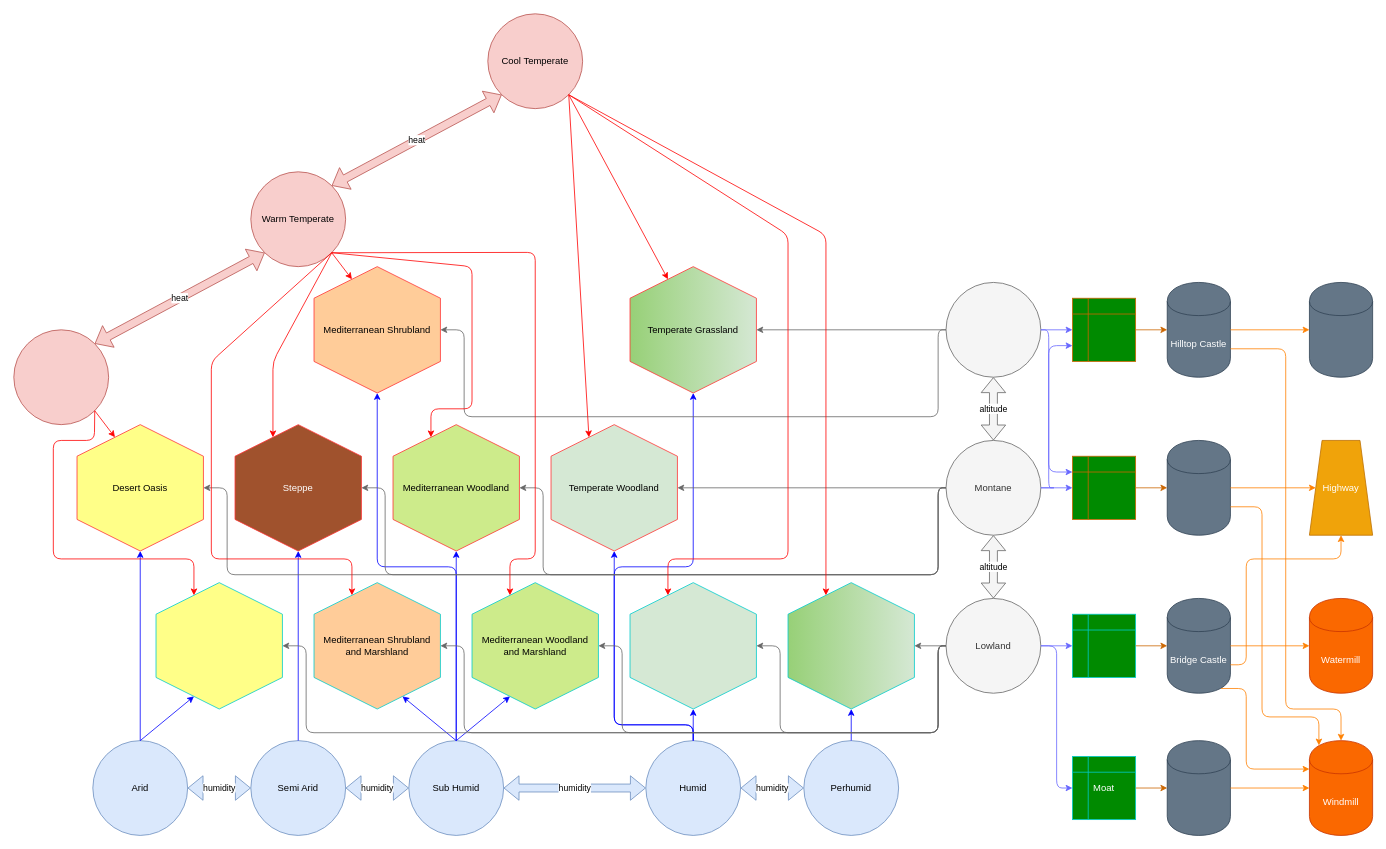
Some shapes in this 1386 by 849 pixel diagram are drawn without their labels. Here are the shapes that lost their labels. From the top down, the box of each, then its label:
(945, 282, 1041, 377): Highland
(1072, 297, 1136, 361): Promontory Road
(1309, 282, 1373, 377): Bergfried
(13, 329, 109, 425): Subtropical
(1072, 455, 1136, 519): Crossroads
(1166, 440, 1230, 535): Hillside Castle
(155, 582, 282, 709): Desert Marshland
(629, 582, 756, 709): Temperate Woodland and Marshland
(787, 582, 914, 709): Temperate Grassland and Marshland
(1072, 613, 1136, 677): Water Crossing
(1166, 740, 1230, 835): Water Castle
